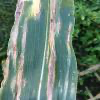Corn leaf blight: (3, 0, 80, 99)
